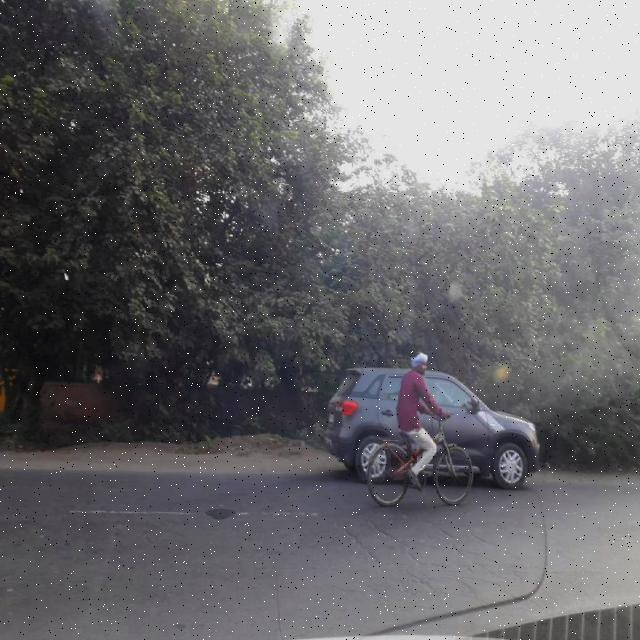D20: (332, 518, 554, 620)
D44: (66, 481, 327, 531)
